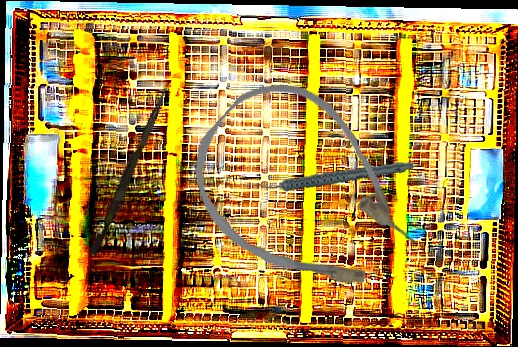Cannula: (163, 55, 447, 334)
Handpiece: (257, 147, 414, 203)
Pusher: (89, 84, 169, 258)
